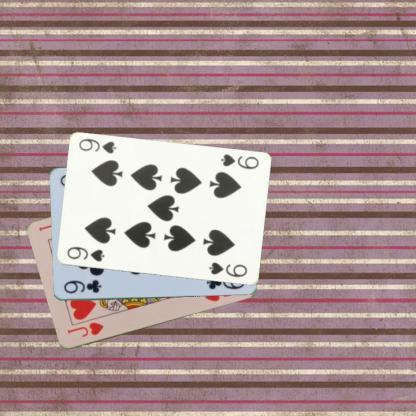9c: (61, 278, 102, 296)
9s: (64, 244, 105, 263), (218, 152, 259, 170)
Jh: (64, 320, 105, 338)
